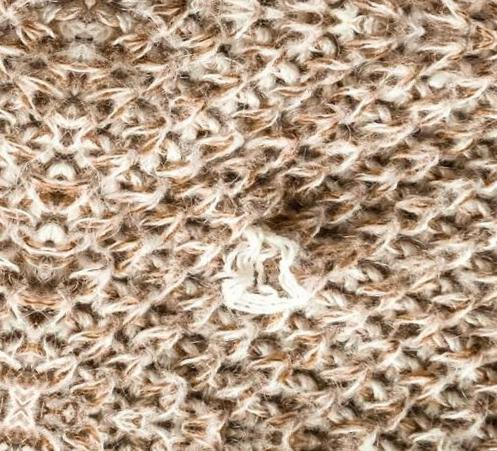snag: (214, 219, 324, 321)
